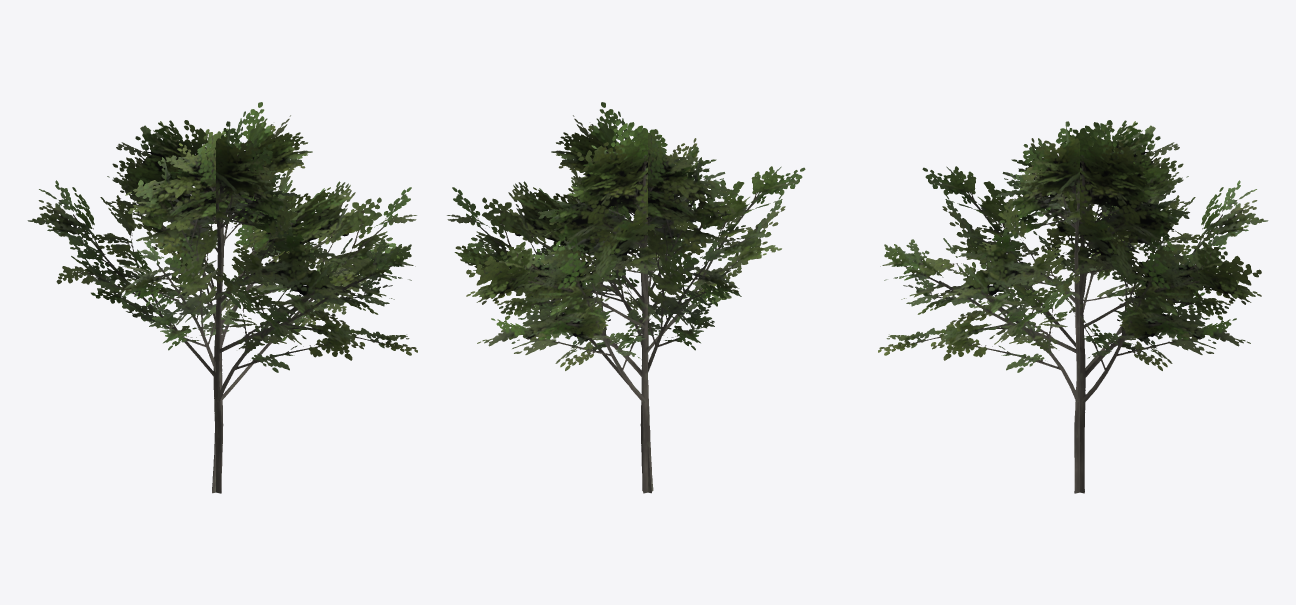
The model's file is lipa_mlada_daleko.glb.
3 renders of one model, left to right at view 1: azimuth 30°, elevation 25°; view 2: azimuth 150°, elevation 25°; view 3: azimuth 270°, elevation 25°, orthographic.
Visible parts, largest first — view 1: lipa_mlada_daleko; view 2: lipa_mlada_daleko; view 3: lipa_mlada_daleko.
Boxes of the visible parts, <box> form: lipa_mlada_daleko: <box>27,102,417,493</box>; lipa_mlada_daleko: <box>447,102,805,493</box>; lipa_mlada_daleko: <box>878,120,1268,493</box>.
Size of the model in its own units: 7.35 by 6.61 by 6.37.
Materials: 3 (3 with a texture image).
